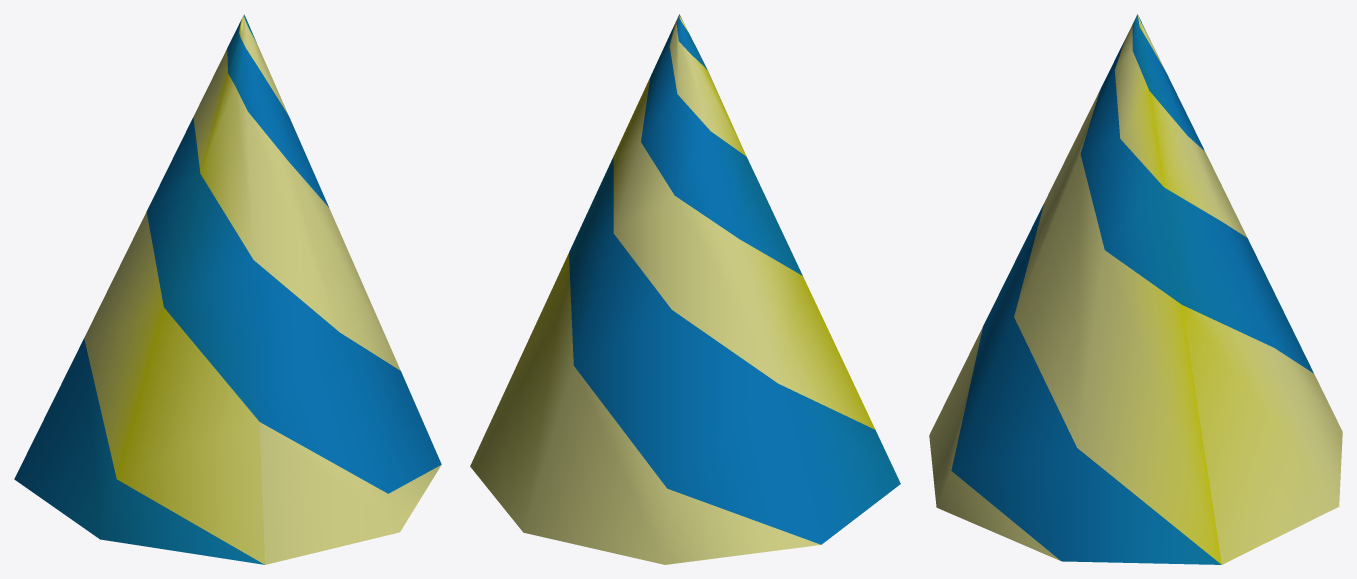
The model's file is hatL.glb.
3 renders of one model, left to right at view 1: azimuth 30°, elevation 25°; view 2: azimuth 150°, elevation 25°; view 3: azimuth 270°, elevation 25°, orthographic.
Parts seen in each view (by area): view 1: hatL; view 2: hatL; view 3: hatL.
Part boxes in pixels (<box>): hatL: <box>14,14,441,564</box>; hatL: <box>470,14,900,564</box>; hatL: <box>929,14,1342,564</box>.
Bounding box in the file's own units: 0.245 × 0.3062 × 0.245.
